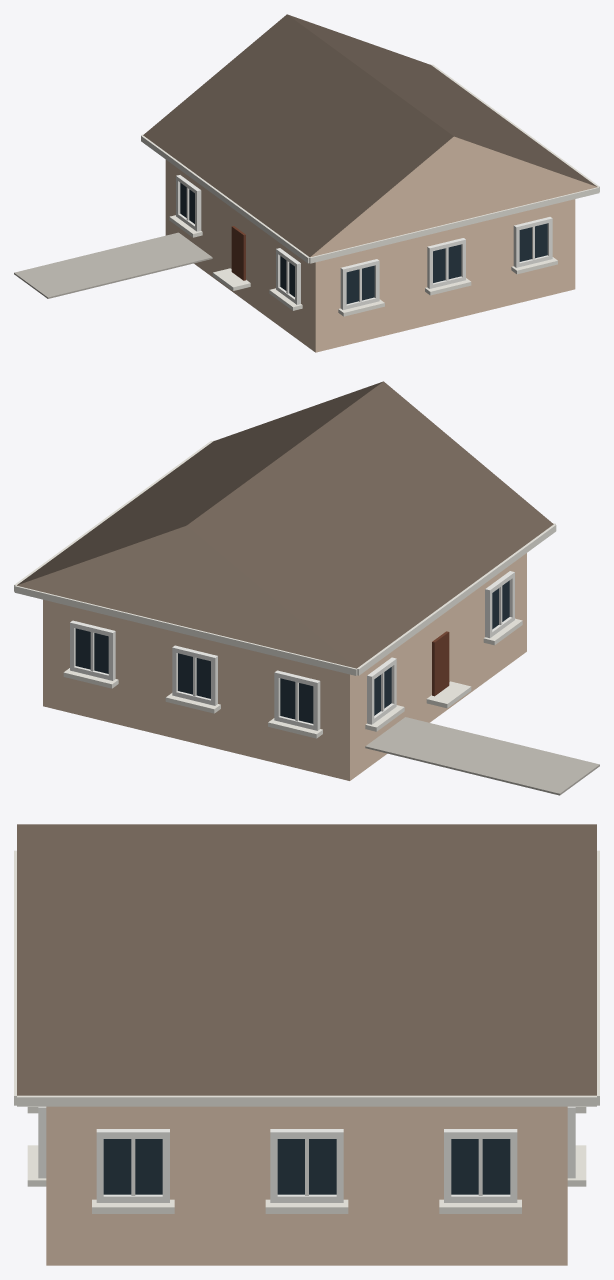
3 renders of one model, top to bottom at view 1: azimuth 30°, elevation 25°; view 2: azimuth 150°, elevation 25°; view 3: azimuth 270°, elevation 25°, orthographic. The views are drawn at different scales.
Visible parts, largest first — view 1: b4218; view 2: b4218; view 3: b4218.
Boxes of the visible parts, left/top/right/bottom form: b4218: left=14, top=14, right=599, bottom=352; b4218: left=14, top=381, right=599, bottom=795; b4218: left=14, top=824, right=599, bottom=1265.
Size of the model in its own units: 7491 by 3100 by 4966.
